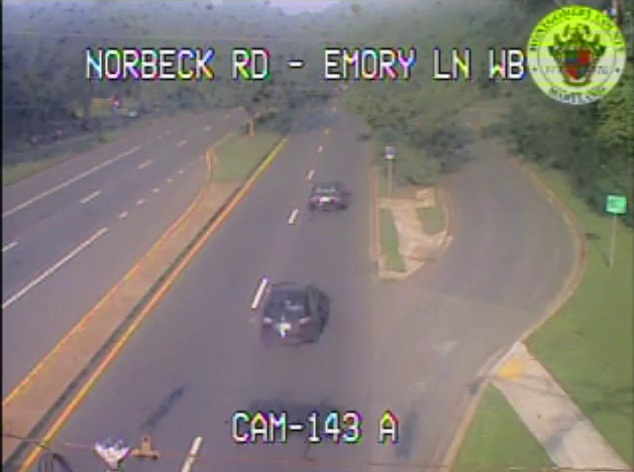car: (260, 283, 317, 342), (309, 183, 345, 211)
